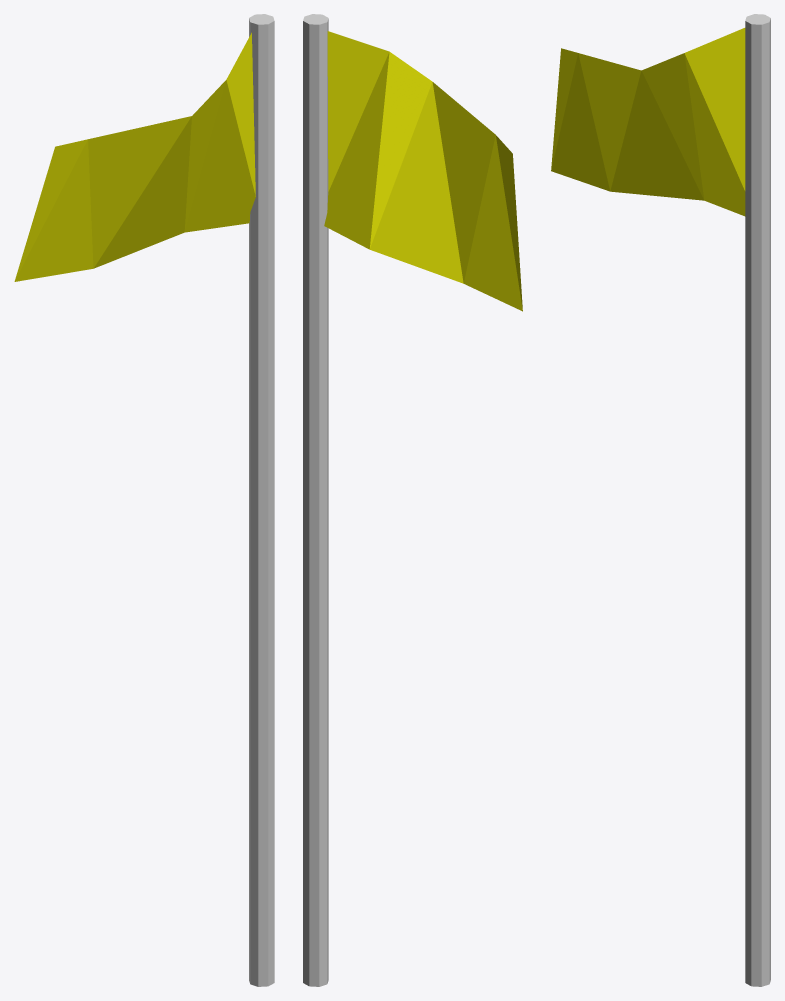
The model's file is equipment_0001_flag.glb.
3 renders of one model, left to right at view 1: azimuth 30°, elevation 25°; view 2: azimuth 150°, elevation 25°; view 3: azimuth 330°, elevation 25°, orthographic.
Visible parts, largest first — view 1: flag, pole; view 2: flag, pole; view 3: flag, pole.
Part boxes in pixels (left/top/right/bottom): flag: left=14, top=32, right=255, bottom=281; pole: left=249, top=14, right=274, bottom=986; flag: left=324, top=31, right=522, bottom=311; pole: left=303, top=14, right=328, bottom=986; flag: left=551, top=28, right=745, bottom=216; pole: left=745, top=14, right=770, bottom=986.
Bounding box in the file's own units: 41.54 × 160 × 13.15.
